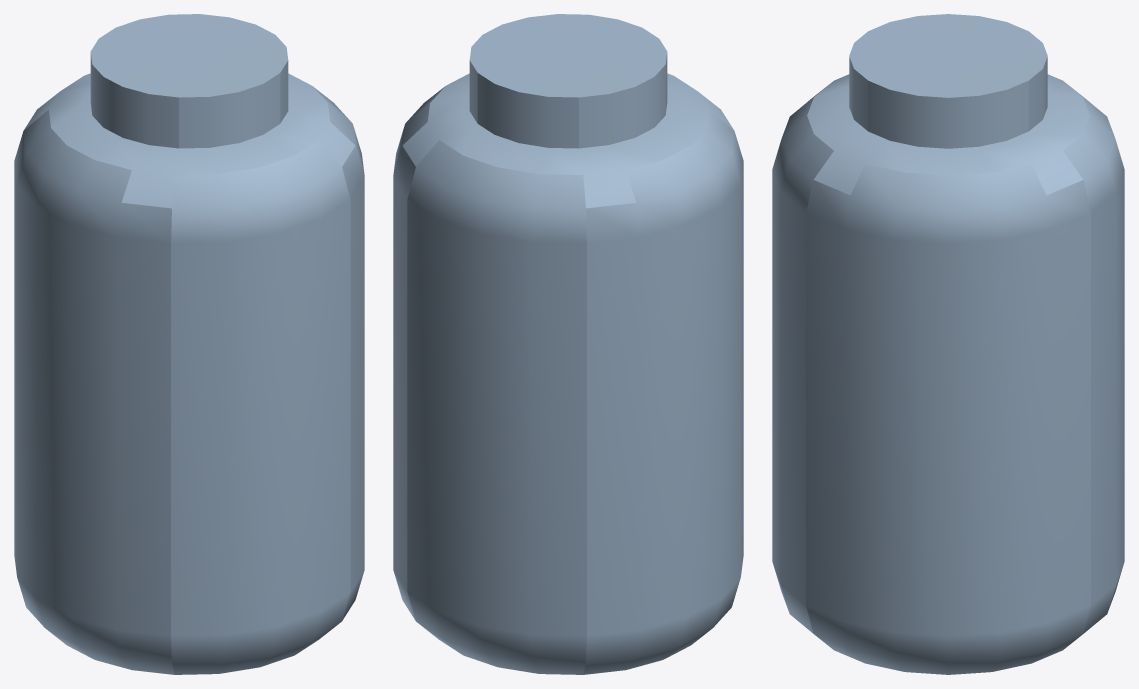
Rendered from Ing_PillsBottle.fbx.
3 renders of one model, left to right at view 1: azimuth 30°, elevation 25°; view 2: azimuth 150°, elevation 25°; view 3: azimuth 270°, elevation 25°, orthographic.
Visible parts, largest first — view 1: Ing_PillsBottle_low; view 2: Ing_PillsBottle_low; view 3: Ing_PillsBottle_low.
Boxes of the visible parts, x1,y1,x2,y2 form: Ing_PillsBottle_low: [14, 14, 364, 674]; Ing_PillsBottle_low: [393, 14, 743, 674]; Ing_PillsBottle_low: [772, 14, 1124, 674].
Bounding box in the file's own units: 13.16 × 23.4 × 13.16.
